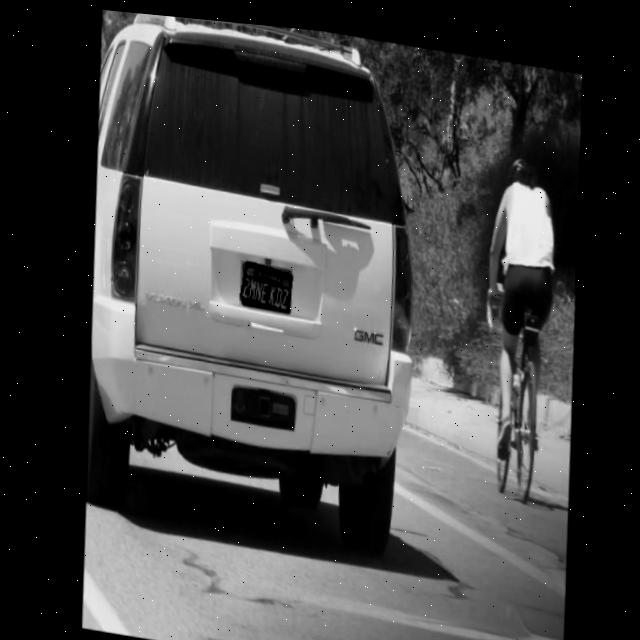LicensePlate: (235, 255, 292, 308)
